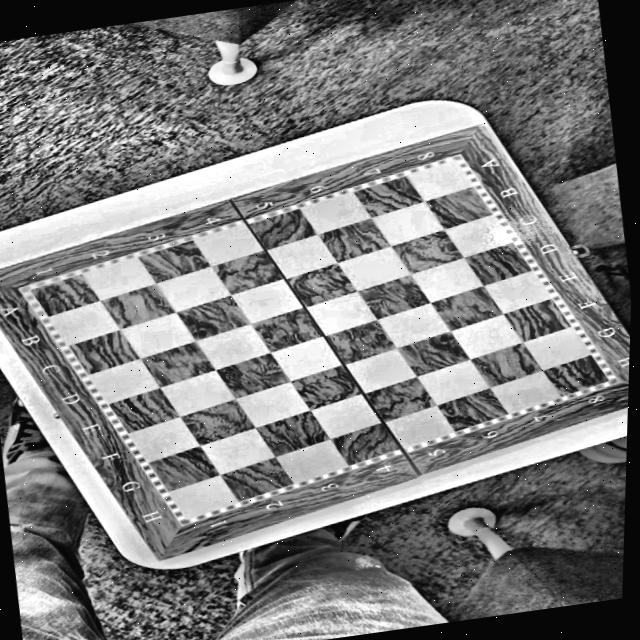chessboard: (17, 151, 623, 527)
p1: (22, 287, 41, 295)
p2: (448, 158, 460, 170)
p3: (593, 374, 614, 385)
p4: (180, 510, 191, 520)
